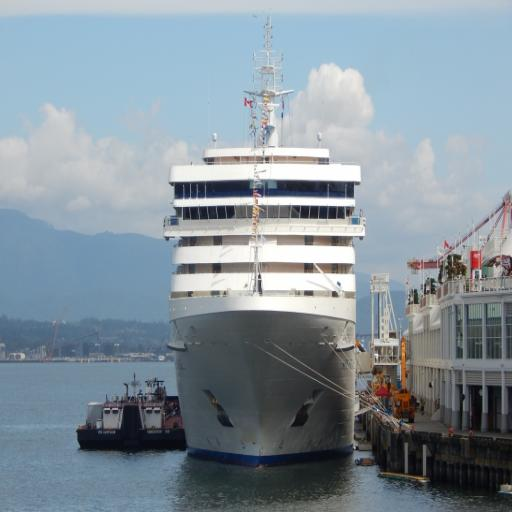cruises: (161, 20, 370, 480)
